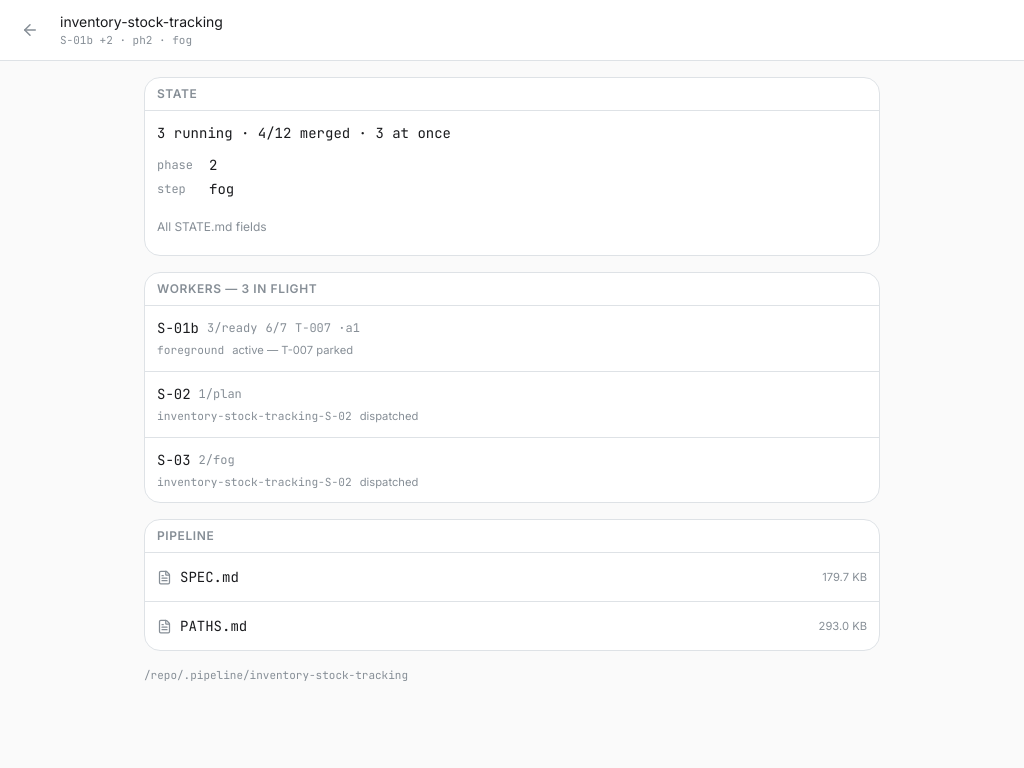
Test: Conductor page — parallel slices › opens one worker’s own tickets and artefacts
Click the text "S-01b".
click(178, 328)  # box [157, 318, 199, 338]
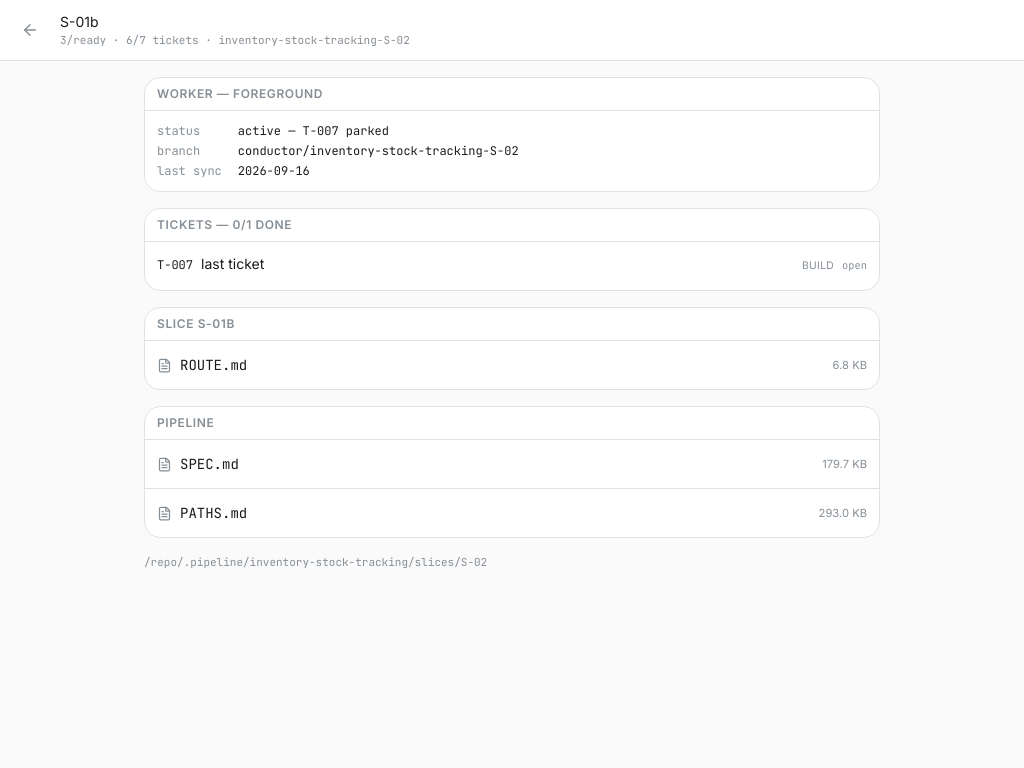
Expected: the text "T-007" is shown, [157, 257, 193, 273]
Expected: the text "ROUTE.md" is shown, [180, 356, 247, 374]
